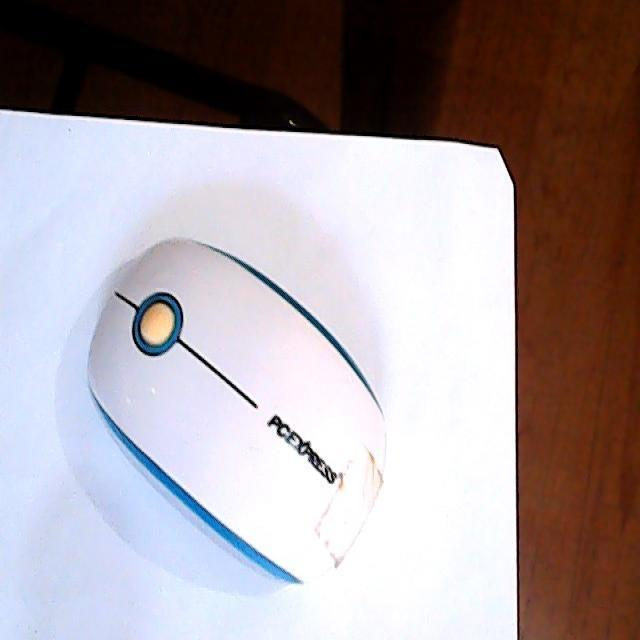Mouse: (86, 232, 390, 590)
